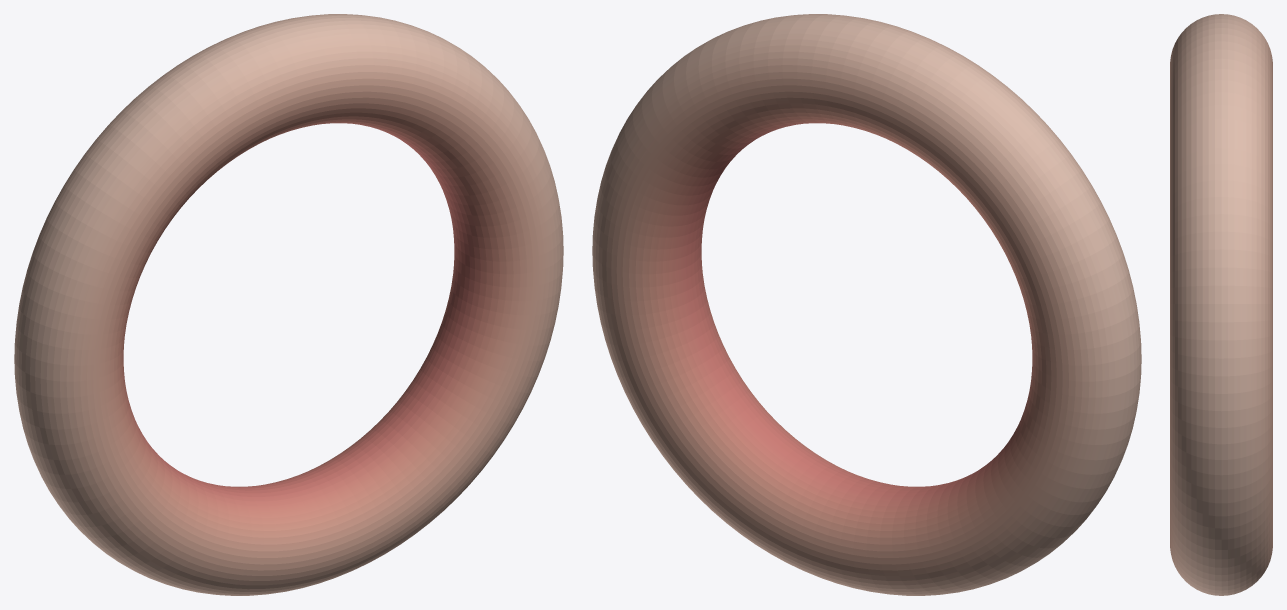
The picture shows the model from 3 angles, left to right: view 1: azimuth 30°, elevation 25°; view 2: azimuth 150°, elevation 25°; view 3: azimuth 270°, elevation 25°; orthographic projection. The views are drawn at different scales.
Visible parts, largest first — view 1: world; view 2: world; view 3: world.
Part boxes in pixels (box(x1,y1,x2,y2)): world: box(14, 14, 563, 595); world: box(592, 14, 1141, 595); world: box(1170, 14, 1272, 595).
Size of the model in its own units: 32.4 by 32.4 by 5.72.
